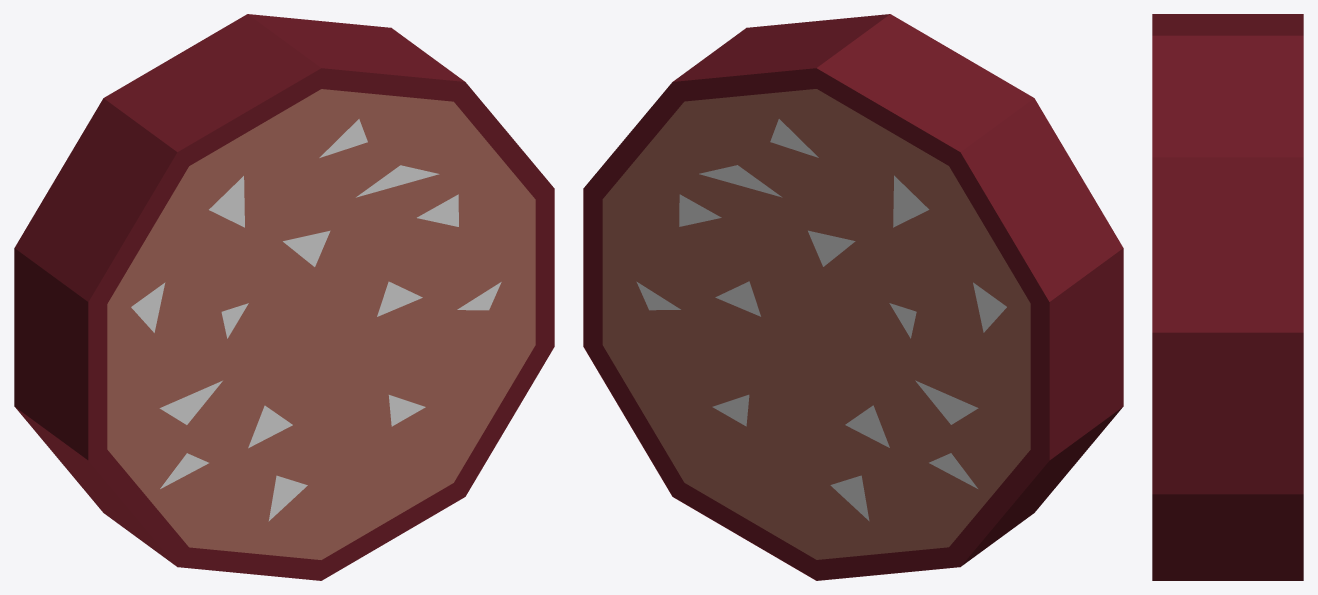
Rendered from SausageSlice.fbx.
3 renders of one model, left to right at view 1: azimuth 30°, elevation 25°; view 2: azimuth 150°, elevation 25°; view 3: azimuth 270°, elevation 25°, orthographic. The views are drawn at different scales.
Visible parts, largest first — view 1: Cylinder.001, Cylinder.004, Cylinder.005, Cylinder.003; view 2: Cylinder.008, Cylinder.004, Cylinder.006, Cylinder.007; view 3: Cylinder.004.
Boxes of the visible parts, <box> form: Cylinder.001: <box>107,89,535,559</box>; Cylinder.004: <box>14,14,464,566</box>; Cylinder.005: <box>88,68,554,580</box>; Cylinder.003: <box>131,119,501,521</box>; Cylinder.008: <box>602,89,1030,559</box>; Cylinder.004: <box>583,14,1123,580</box>; Cylinder.006: <box>583,68,1049,580</box>; Cylinder.007: <box>636,119,1006,521</box>; Cylinder.004: <box>1152,14,1303,580</box>.
Bounding box in the file's own units: 29.07 × 30.56 × 7.99.
